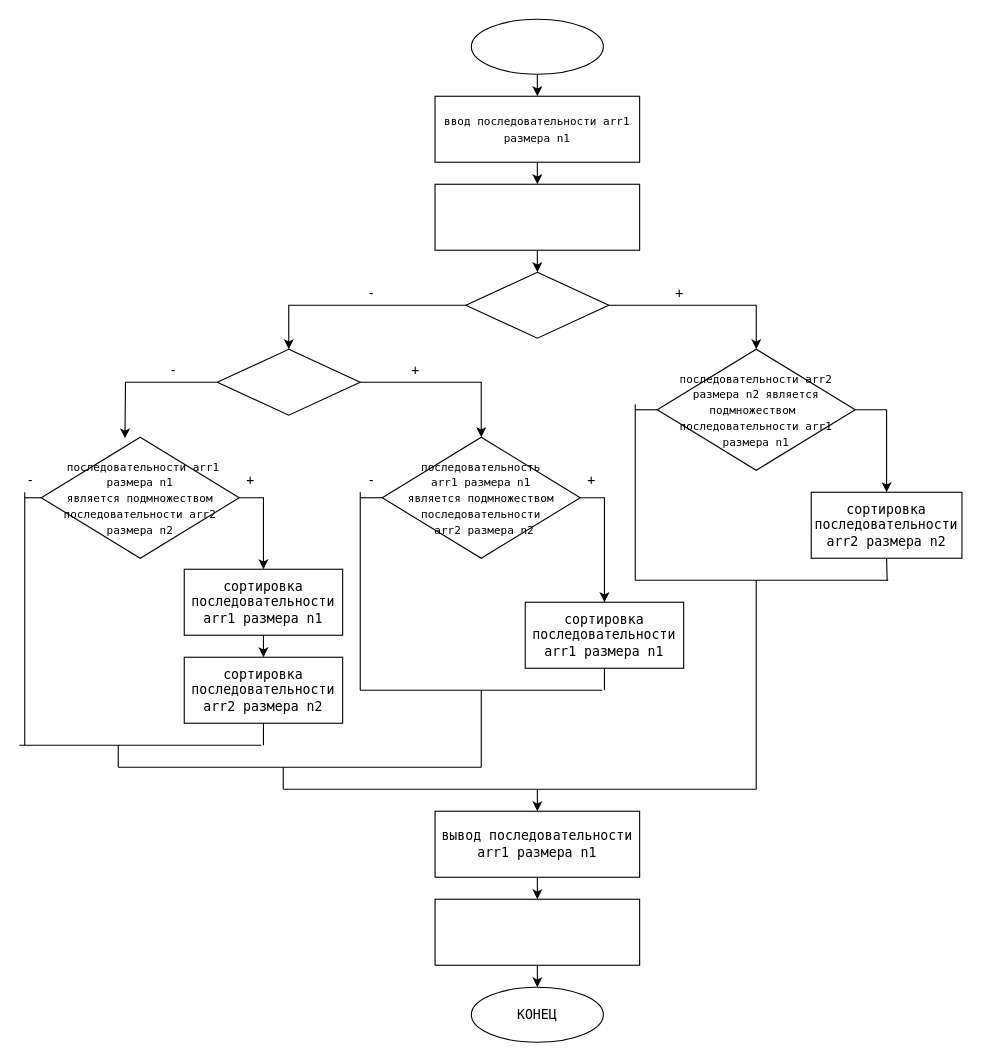
Some shapes in this 981 by 1062 pixel diagram are drawn without their labels. The centre of each missing label's shape, as x and y in pixels:
n1 > n2: point (537, 304)
n2 > n1: point (288, 381)
ввод последовательности arr2 размера n2: point (537, 216)
вывод последовательности arr2 размера n2: point (537, 931)
НАЧАЛО: point (536, 46)
